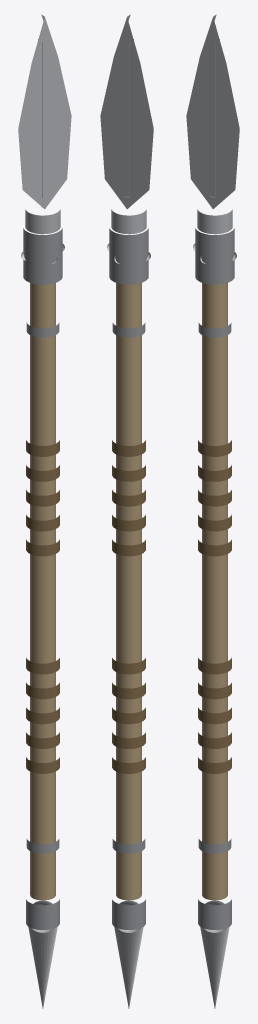
Rendered from steel_spear.glb.
The picture shows the model from 3 angles, left to right: view 1: azimuth 30°, elevation 25°; view 2: azimuth 150°, elevation 25°; view 3: azimuth 330°, elevation 25°; orthographic projection.
Visible parts, largest first — view 1: SteelSpear; view 2: SteelSpear; view 3: SteelSpear.
Boxes of the visible parts, box(x1,y1,x2,y2) form: SteelSpear: box(18, 14, 71, 1008); SteelSpear: box(100, 14, 153, 1008); SteelSpear: box(186, 14, 239, 1008).
Bounding box in the file's own units: 0.18 × 3.2 × 0.144.
